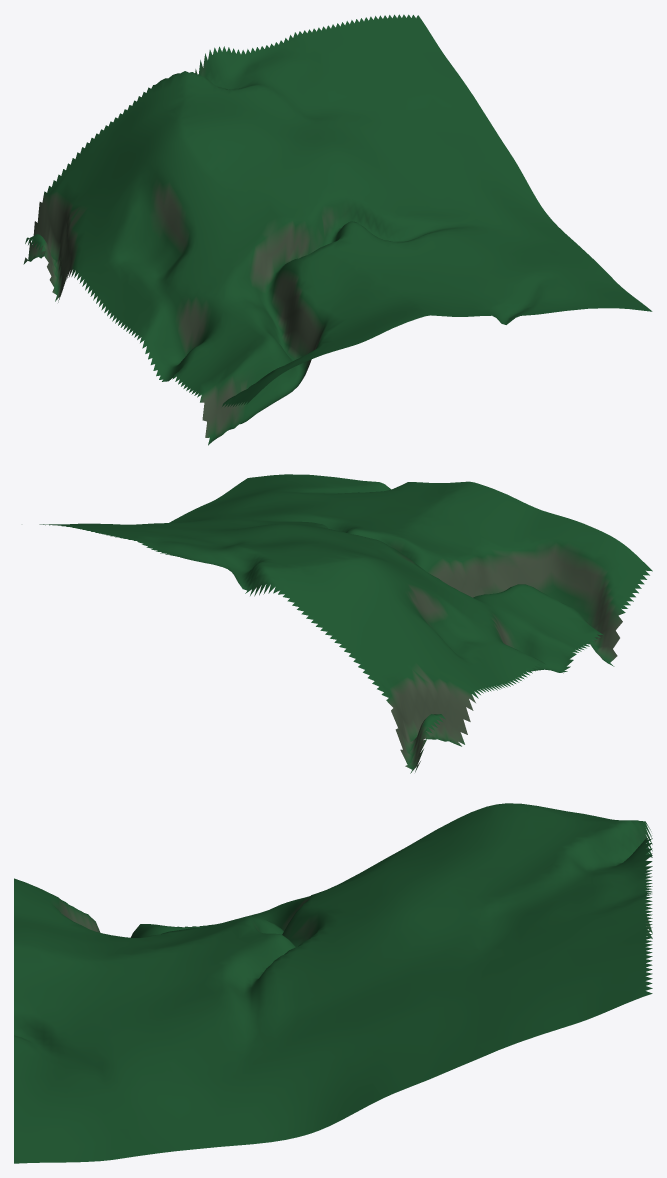
Rendered from payo_land_xm2_y2_lod1.glb.
3 views of the same model, one above another, from view 1: azimuth 30°, elevation 25°; view 2: azimuth 150°, elevation 25°; view 3: azimuth 270°, elevation 25° (orthographic). The views are drawn at different scales.
Parts seen in each view (by area): view 1: payo_land_xm2_y2; view 2: payo_land_xm2_y2; view 3: payo_land_xm2_y2.
Boxes of the visible parts, <box> form: payo_land_xm2_y2: <box>23,14,652,445</box>; payo_land_xm2_y2: <box>39,474,652,773</box>; payo_land_xm2_y2: <box>14,803,652,1163</box>.
Bounding box in the file's own units: 258 × 124 × 258.
